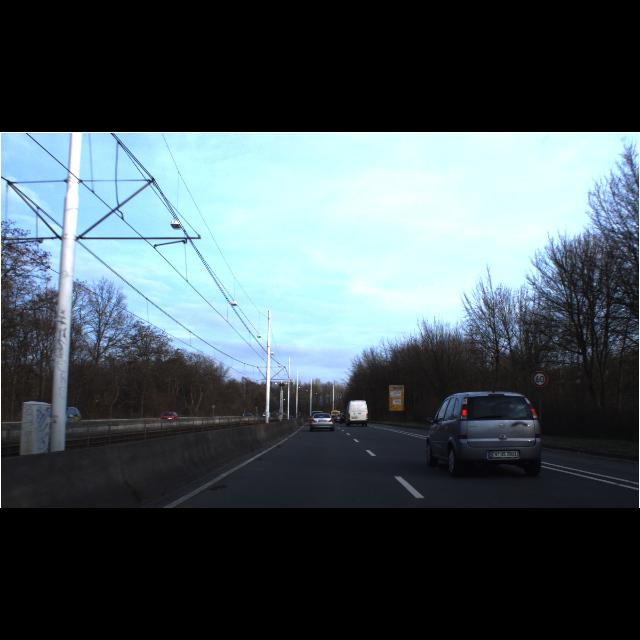prohibitory: (532, 370, 548, 388)
